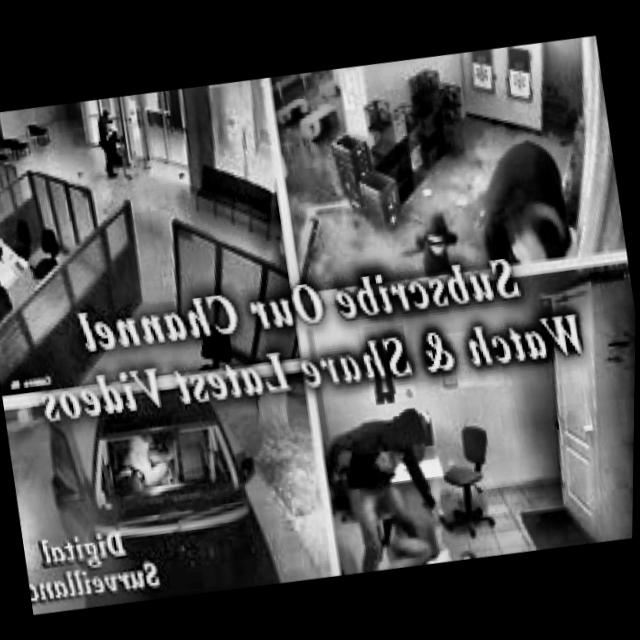robbery: (320, 393, 482, 576)
